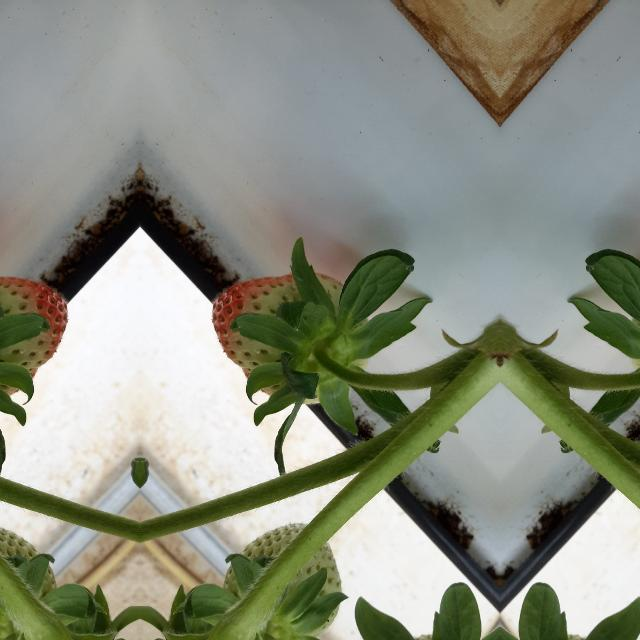Health_100: (212, 274, 342, 394), (0, 274, 68, 393)
Health_25: (221, 507, 343, 631), (0, 507, 59, 631)
